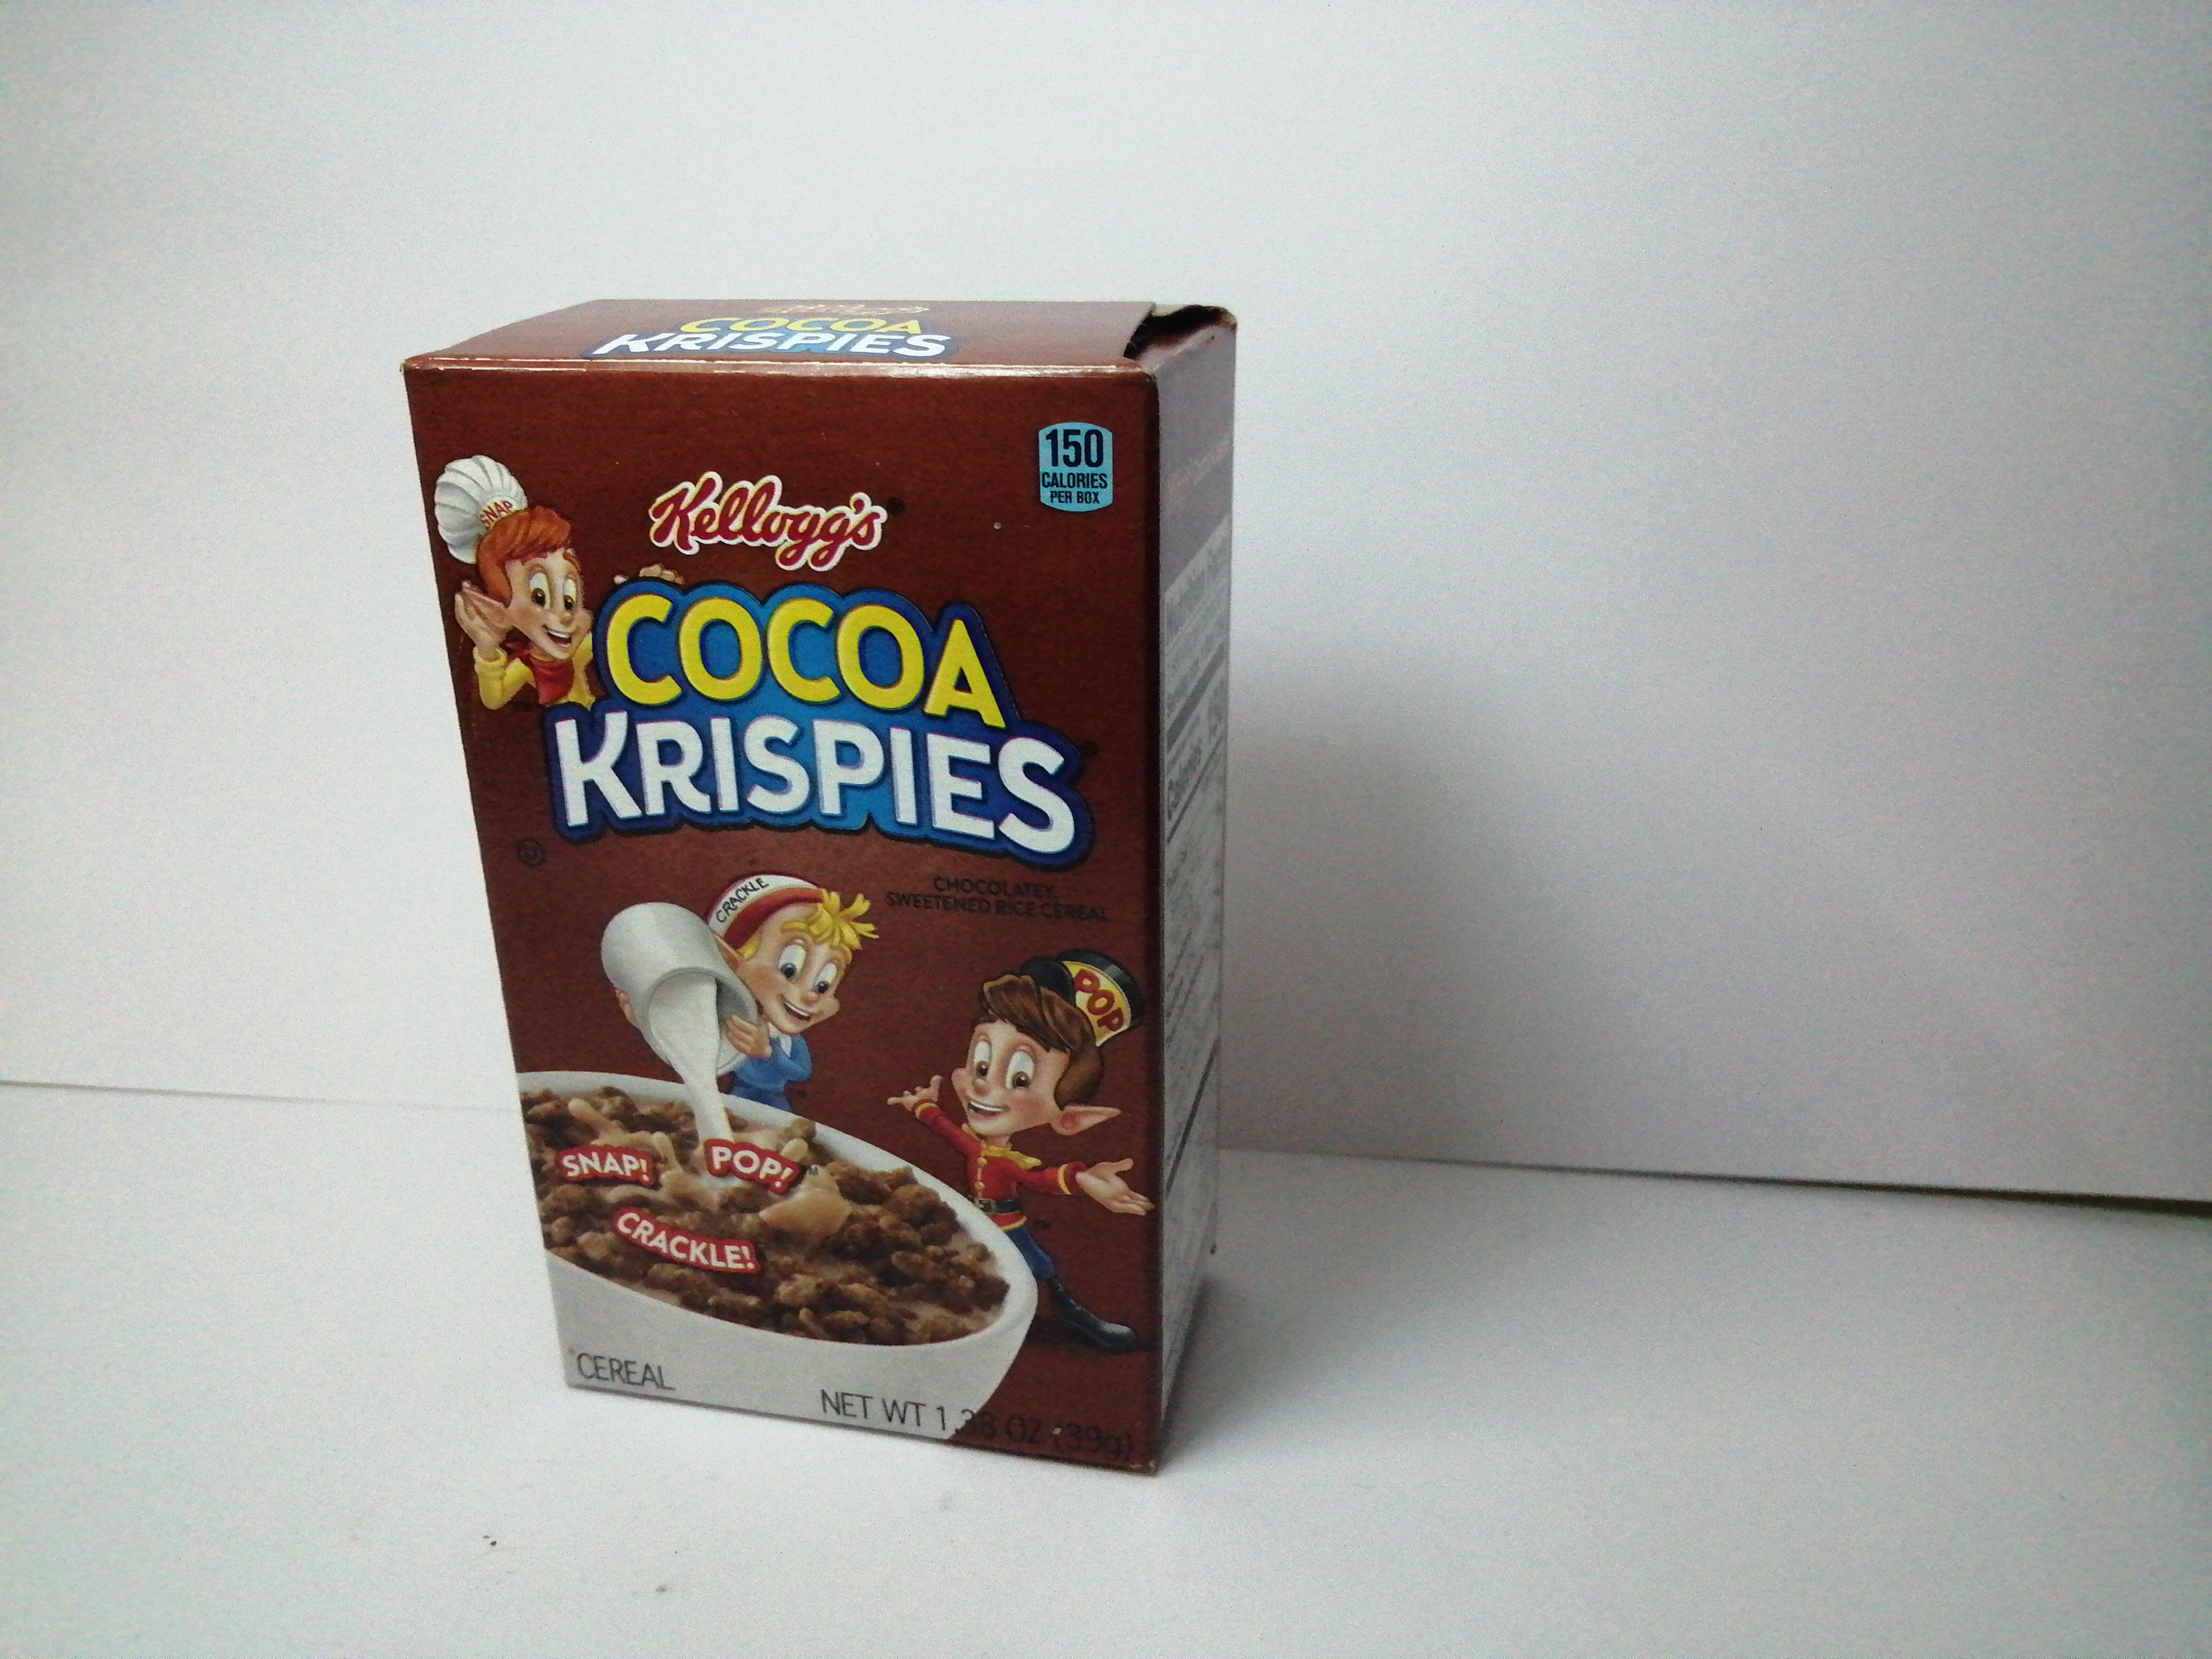cereal chocolate: (388, 254, 1282, 1485)
